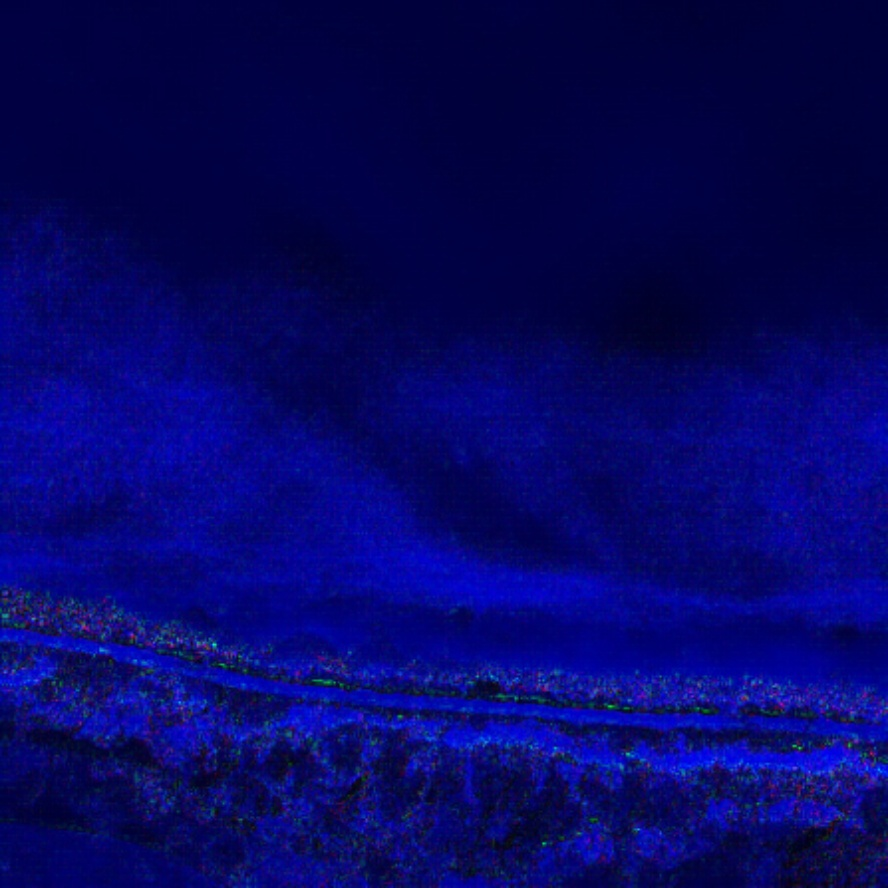rip_current: (204, 266, 608, 598)
